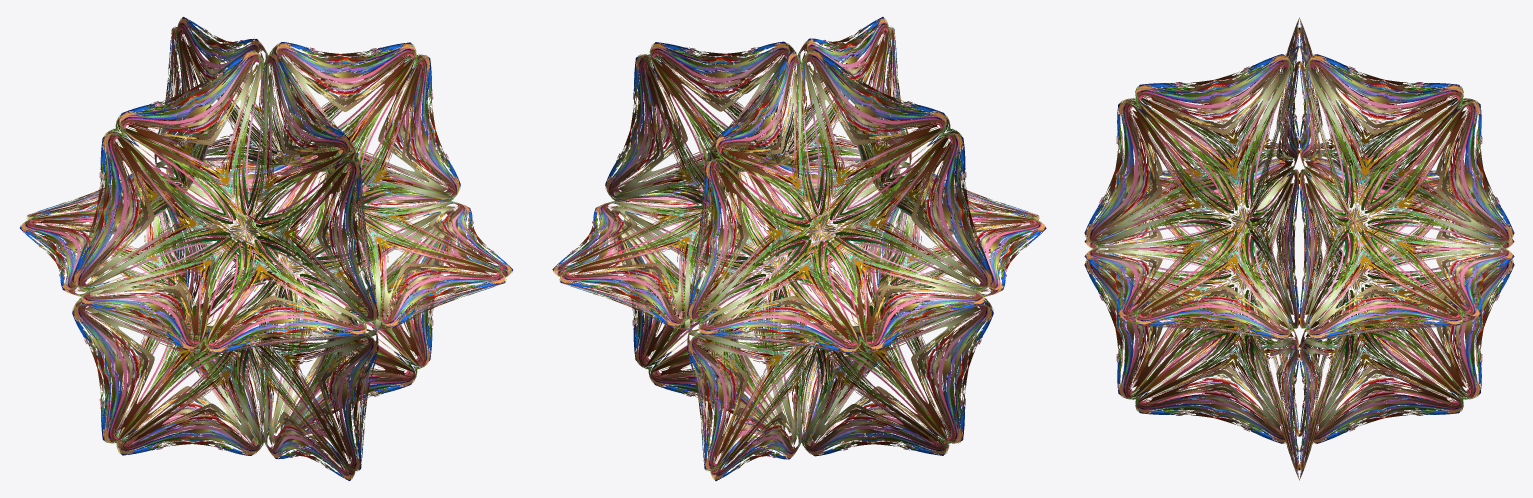
Rendered from Mobius48a_9.obj.
3 renders of one model, left to right at view 1: azimuth 30°, elevation 25°; view 2: azimuth 150°, elevation 25°; view 3: azimuth 270°, elevation 25°, orthographic. The views are drawn at different scales.
Bounding box in the file's own units: 2.41 × 2.41 × 2.41.
Materials: 1 (1 with a texture image).
